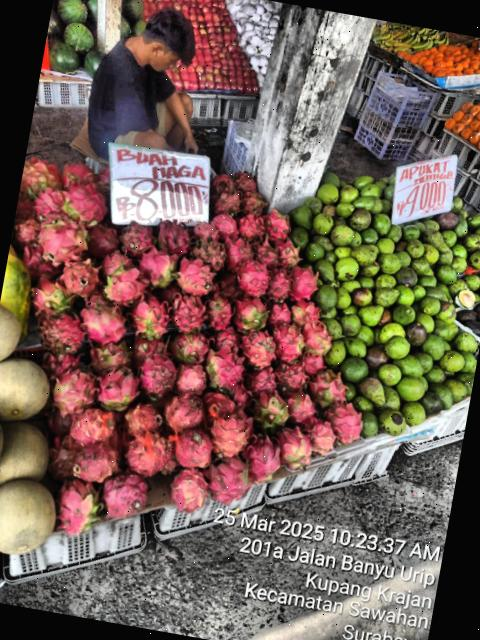buah-naga-belum-matang: (52, 480, 104, 538), (35, 216, 92, 264), (48, 366, 99, 414), (126, 296, 173, 343), (270, 424, 316, 472), (200, 346, 246, 394), (94, 366, 140, 411), (28, 276, 78, 316), (100, 260, 146, 302), (61, 183, 107, 225), (56, 258, 104, 298), (228, 291, 272, 332), (85, 338, 134, 374), (306, 366, 347, 408), (19, 156, 60, 198), (246, 390, 290, 428), (168, 328, 214, 364), (267, 320, 307, 361), (136, 246, 176, 286), (202, 290, 237, 332), (299, 320, 333, 355), (290, 298, 321, 324)
buah-naga-matang: (74, 295, 130, 345), (200, 452, 254, 503), (32, 308, 88, 354), (96, 469, 147, 519), (169, 422, 220, 472), (239, 431, 282, 489), (122, 428, 173, 476), (207, 407, 253, 459), (164, 464, 210, 512), (158, 388, 206, 432), (297, 410, 340, 459), (64, 404, 115, 444), (236, 327, 280, 372), (174, 255, 220, 297), (70, 441, 118, 481), (167, 289, 209, 333), (327, 401, 366, 447), (44, 432, 82, 479), (122, 400, 166, 440), (232, 254, 272, 296), (18, 242, 62, 280), (116, 220, 157, 258), (152, 216, 193, 254), (279, 386, 317, 425), (188, 233, 228, 268), (30, 186, 68, 222), (218, 233, 256, 268), (274, 359, 313, 393), (241, 363, 278, 398), (55, 158, 96, 189), (198, 388, 236, 421), (264, 264, 295, 304), (84, 222, 120, 256), (288, 264, 321, 301), (262, 206, 294, 242), (12, 212, 44, 248), (41, 348, 79, 375), (208, 210, 244, 238), (212, 183, 243, 214), (229, 378, 257, 411), (211, 324, 242, 352), (238, 188, 270, 215), (236, 215, 266, 242), (190, 219, 222, 242), (250, 235, 277, 262), (299, 352, 326, 375), (232, 170, 259, 193), (212, 172, 233, 186)
